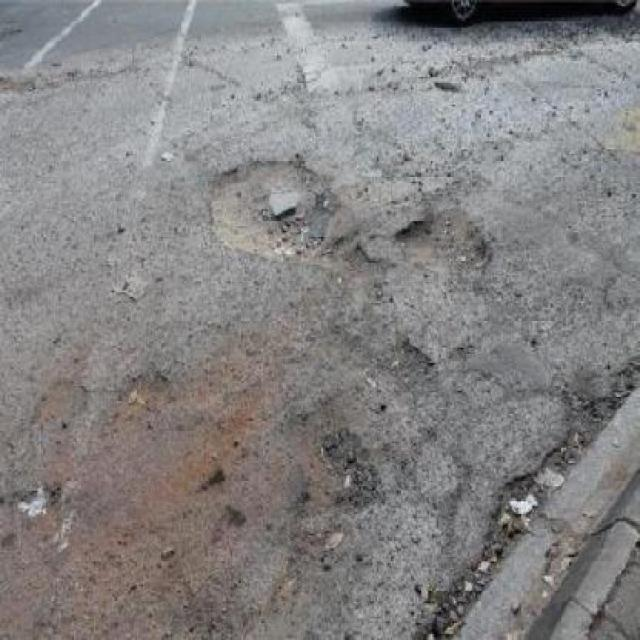Pothole: (414, 398, 638, 638), (204, 153, 346, 264), (392, 205, 492, 290), (291, 428, 383, 515)
